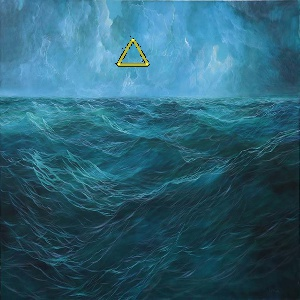triangle: (112, 36, 152, 69)
